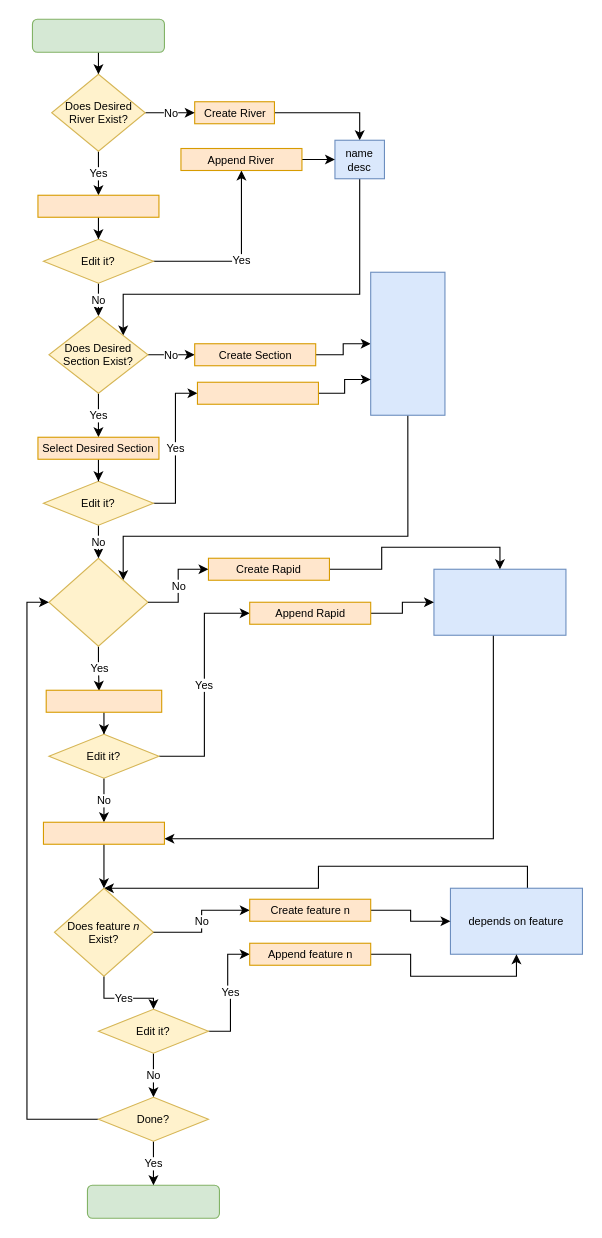
The diagram is 602 pixels wide and 1238 high, and some of its shapes have lost their labels. Each missing label, with the centre of its shape:
Append Section: point 257,392
Does Desired Rapid Exist?: point 98,601
End: point 152,1201
name desc overviewMap access location class putIn takeOut levelRange sponsors: point 407,343
name desc riverMap mapLabel: point 499,601
Select a Feature Type: point 103,832
Select Desired River: point 98,205
Select Rapid: point 103,700
Start: point 97,35
